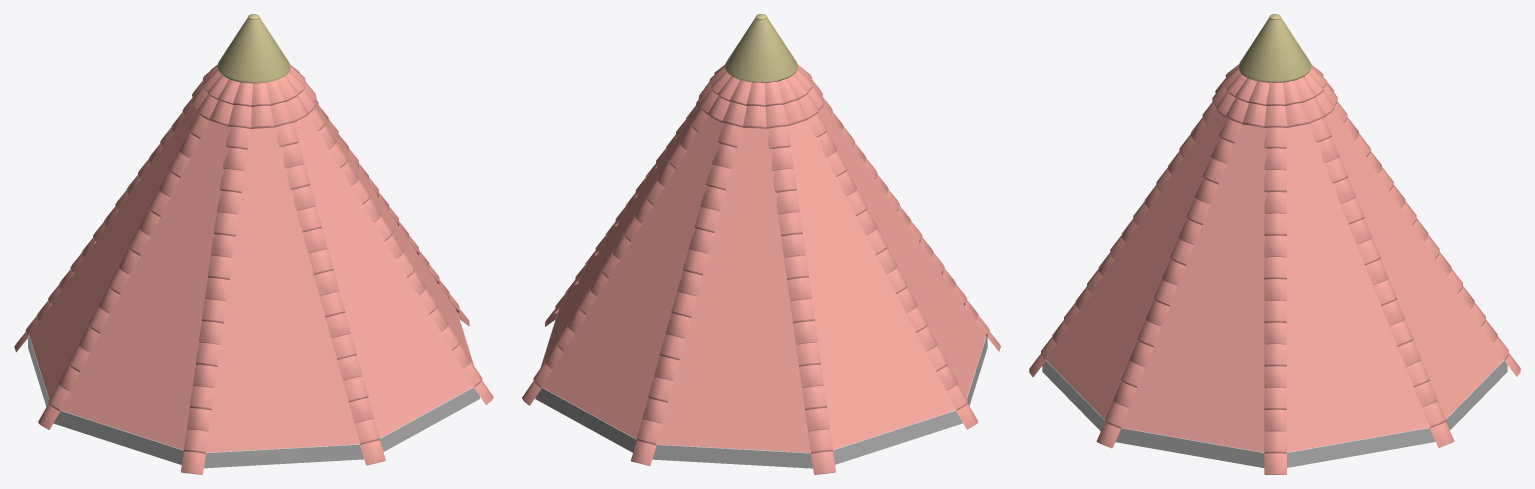
The model's file is dfk_roof_round.fbx.
The picture shows the model from 3 angles, left to right: view 1: azimuth 30°, elevation 25°; view 2: azimuth 150°, elevation 25°; view 3: azimuth 270°, elevation 25°; orthographic projection.
Visible parts, largest first — view 1: dfk_roof_round; view 2: dfk_roof_round; view 3: dfk_roof_round.
Part boxes in pixels (left/top/right/bottom): dfk_roof_round: left=14, top=14, right=493, bottom=474; dfk_roof_round: left=522, top=14, right=1000, bottom=474; dfk_roof_round: left=1029, top=14, right=1520, bottom=474.
Bounding box in the file's own units: 6.21 × 4.99 × 6.21.
